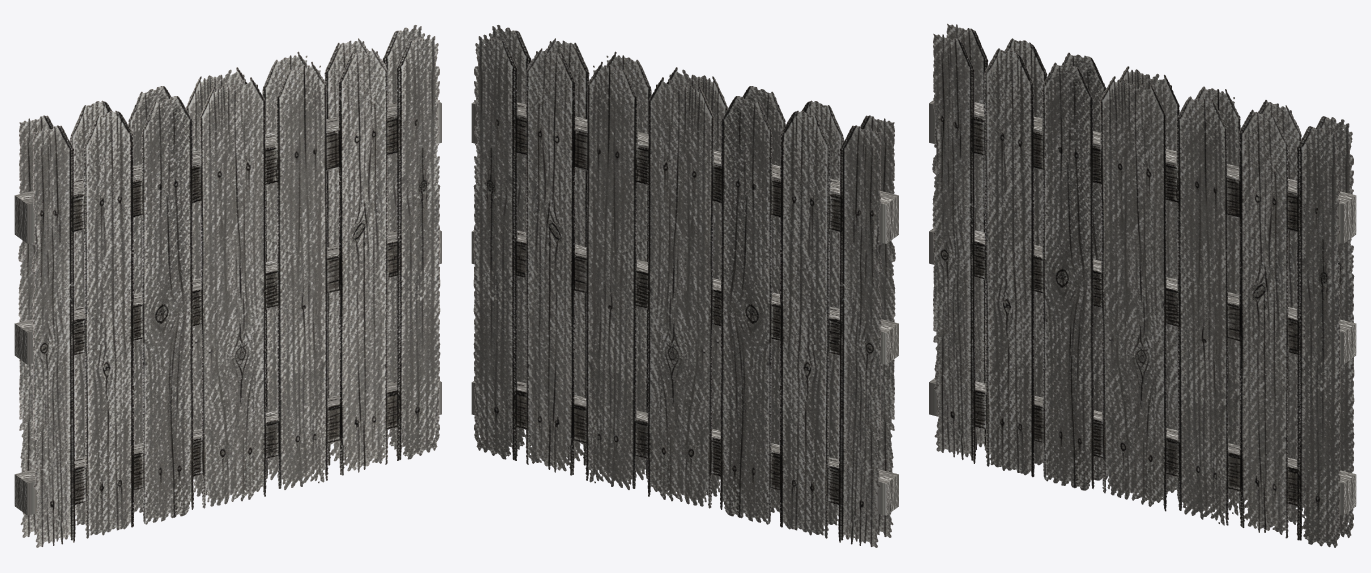
File: fence.fbx
The picture shows the model from 3 angles, left to right: view 1: azimuth 30°, elevation 25°; view 2: azimuth 150°, elevation 25°; view 3: azimuth 330°, elevation 25°; orthographic projection.
Visible parts, largest first — view 1: FenceObject; view 2: FenceObject; view 3: FenceObject.
Boxes of the visible parts, box(x1,y1,x2,y2) form: FenceObject: box(14, 25, 441, 547); FenceObject: box(471, 25, 898, 547); FenceObject: box(929, 23, 1356, 547).
Bounding box in the file's own units: 100 × 100 × 5.69.
